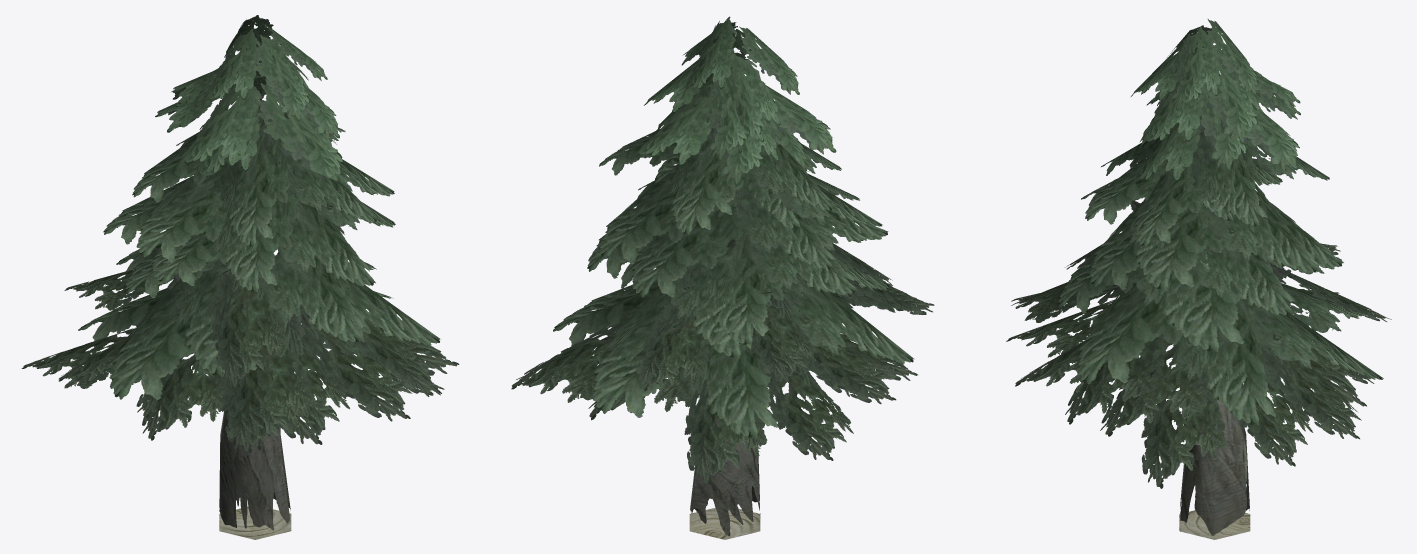
Rendered from Elka_02_CLear.fbx.
The picture shows the model from 3 angles, left to right: view 1: azimuth 30°, elevation 25°; view 2: azimuth 150°, elevation 25°; view 3: azimuth 270°, elevation 25°; orthographic projection.
Visible parts, largest first — view 1: frostivus_tree.vmdl_c.frostivus_tree; view 2: frostivus_tree.vmdl_c.frostivus_tree; view 3: frostivus_tree.vmdl_c.frostivus_tree.
Boxes of the visible parts, left/top/right/bottom form: frostivus_tree.vmdl_c.frostivus_tree: left=21, top=15, right=459, bottom=539; frostivus_tree.vmdl_c.frostivus_tree: left=511, top=16, right=934, bottom=539; frostivus_tree.vmdl_c.frostivus_tree: left=1006, top=19, right=1391, bottom=539.
Bounding box in the file's own units: 174 × 222 × 168.
